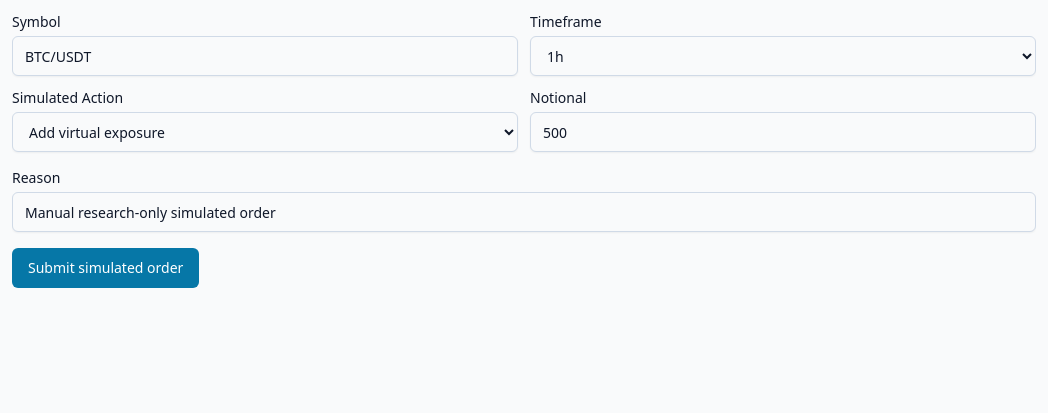
PaperOrderForm › validates notional
Replace the text in the number field labelled "Notional" with "0" at (783, 132), box top-left (530, 112), bottom-right (1036, 152)
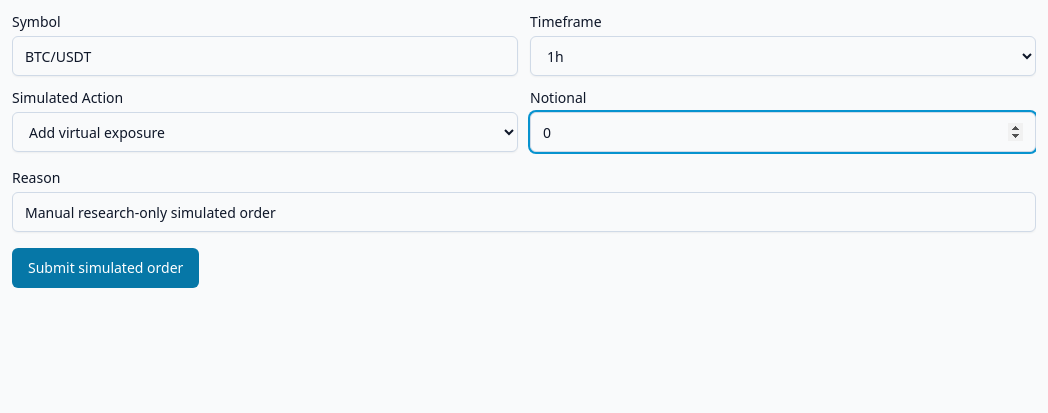
Click the button "Submit simulated order".
click(106, 268)  # box top-left (12, 248), bottom-right (199, 288)
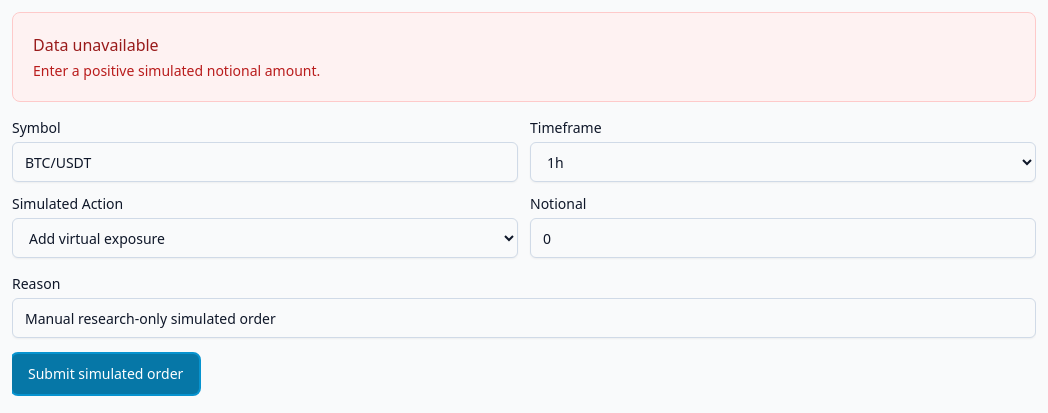
expect the text "Enter a positive simulated notional amount." is shown: met, box top-left (33, 61), bottom-right (320, 80)
